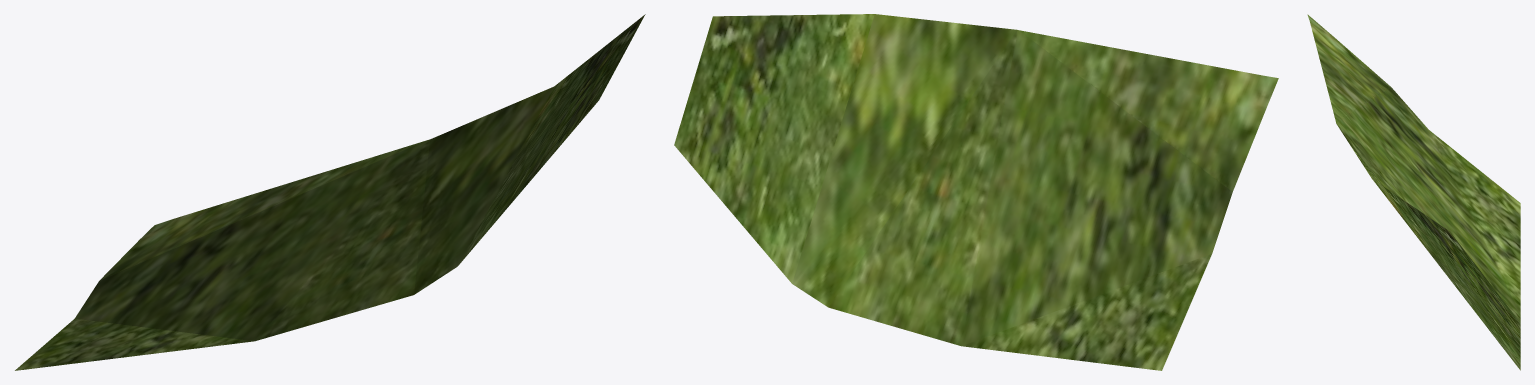
The picture shows the model from 3 angles, left to right: view 1: azimuth 30°, elevation 25°; view 2: azimuth 150°, elevation 25°; view 3: azimuth 270°, elevation 25°; orthographic projection. The views are drawn at different scales.
Size of the model in its own units: 2.95 by 1.34 by 1.22.
1 material, 1 textured.
